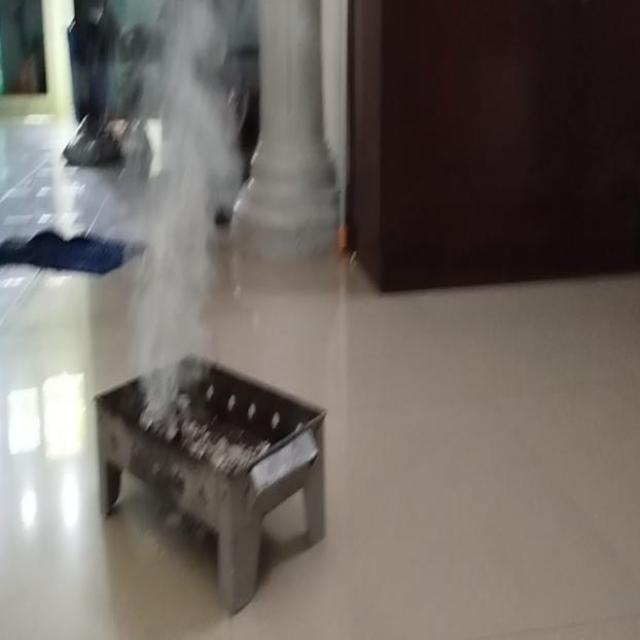fire: (127, 0, 235, 355)
